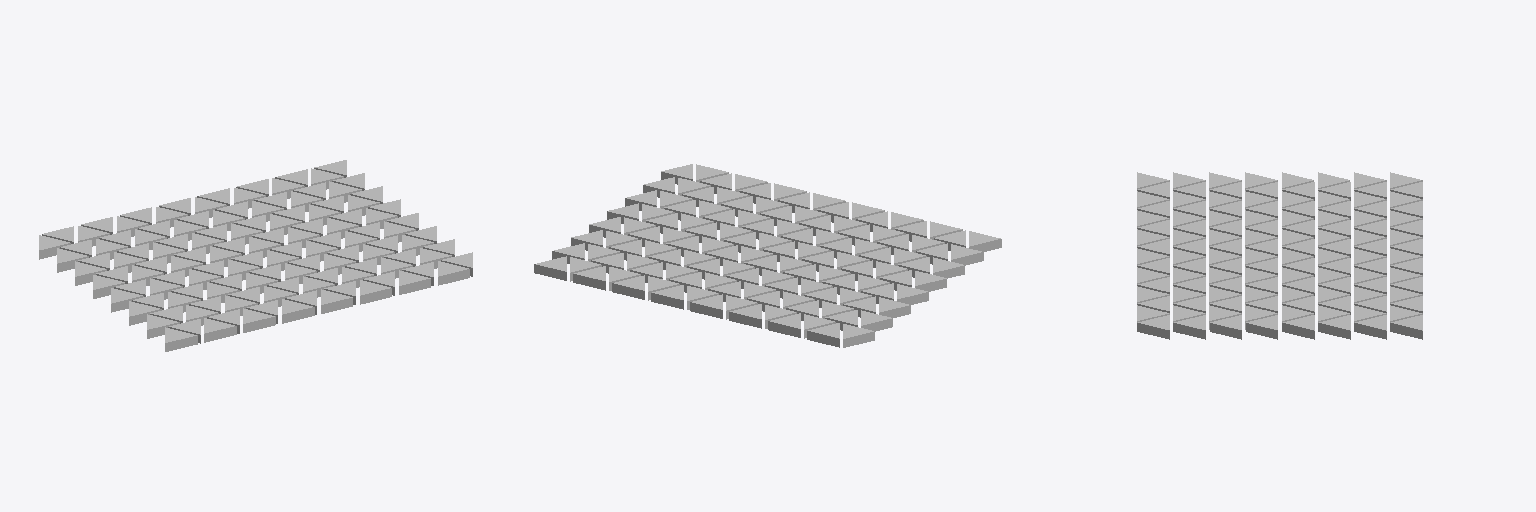
Rendered from hexagonGridPolygonsMore.obj.
3 renders of one model, left to right at view 1: azimuth 30°, elevation 25°; view 2: azimuth 150°, elevation 25°; view 3: azimuth 270°, elevation 25°, orthographic.
Visible parts, largest first — view 1: Circle.001_Circle.010, Circle.000_Circle.003; view 2: Circle.000_Circle.003, Circle.001_Circle.010; view 3: Circle.000_Circle.003, Circle.001_Circle.010.
Boxes of the visible parts, x1,y1,x2,y2 form: Circle.001_Circle.010: [111, 213, 472, 351]; Circle.000_Circle.003: [39, 160, 400, 298]; Circle.000_Circle.003: [534, 217, 928, 347]; Circle.001_Circle.010: [607, 164, 1001, 291]; Circle.000_Circle.003: [1282, 172, 1422, 339]; Circle.001_Circle.010: [1137, 172, 1277, 339].
Size of the model in its own units: 77.87 by 2.1 by 59.36.